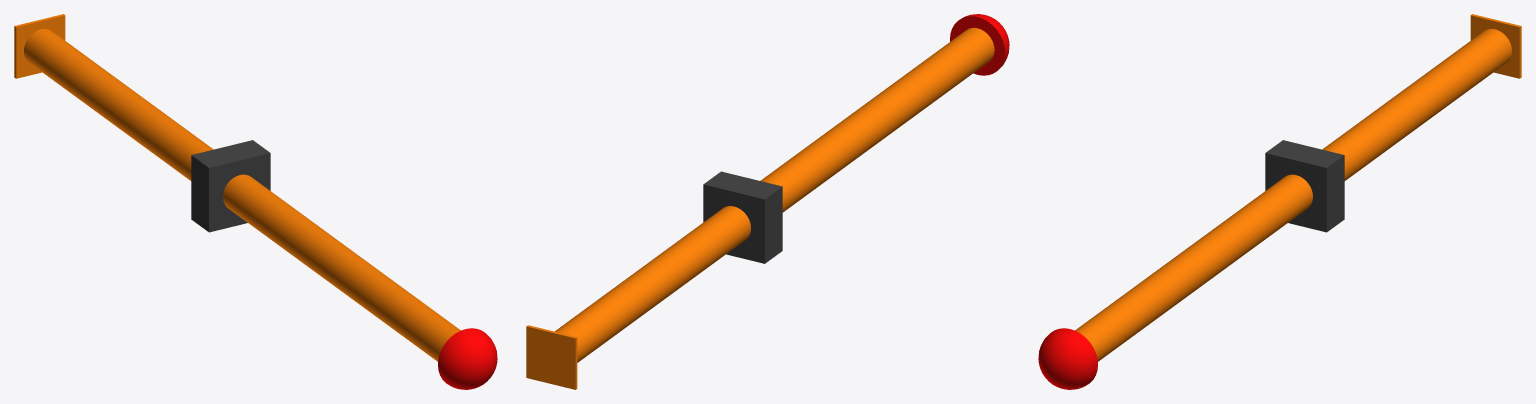
File: palanca.obj
3 renders of one model, left to right at view 1: azimuth 30°, elevation 25°; view 2: azimuth 150°, elevation 25°; view 3: azimuth 330°, elevation 25°, orthographic.
Parts seen in each view (by area): view 1: Cylinder002, Box002, Sphere001, Box003; view 2: Cylinder002, Box002, Box003, Sphere001; view 3: Cylinder002, Box002, Sphere001, Box003.
Part boxes in pixels (x1,y1,x2,y2): Cylinder002: [24, 29, 460, 361]; Box002: [191, 140, 270, 232]; Sphere001: [438, 328, 497, 389]; Box003: [14, 14, 65, 78]; Cylinder002: [534, 27, 994, 376]; Box002: [703, 171, 782, 263]; Box003: [526, 325, 577, 389]; Sphere001: [950, 14, 1009, 75]; Cylinder002: [1075, 29, 1511, 361]; Box002: [1265, 140, 1344, 232]; Sphere001: [1038, 328, 1097, 389]; Box003: [1470, 14, 1521, 78].
Bounding box in the file's own units: 1 × 1 × 12.45.
